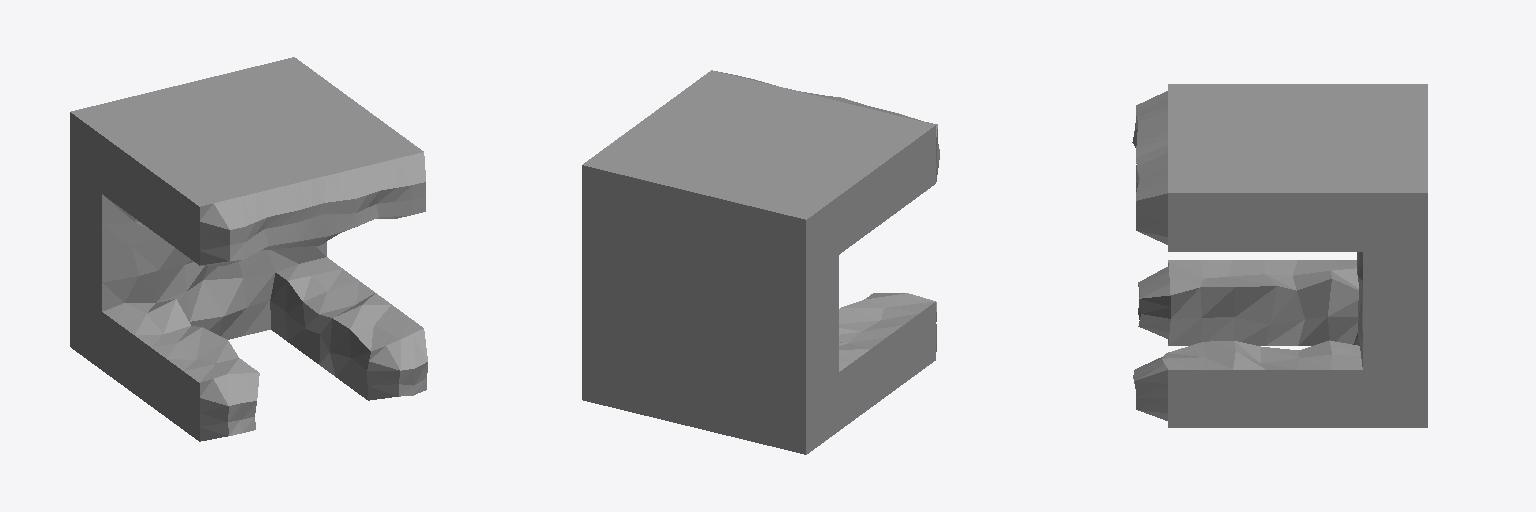
Rendered from tjunction.obj.
The picture shows the model from 3 angles: view 1: azimuth 30°, elevation 25°; view 2: azimuth 150°, elevation 25°; view 3: azimuth 270°, elevation 25°; orthographic projection.
Parts seen in each view (by area): view 1: Cube; view 2: Cube; view 3: Cube.
Boxes of the visible parts, box(x1,y1,x2,y2) form: Cube: box(70, 57, 427, 441); Cube: box(582, 70, 939, 454); Cube: box(1132, 84, 1427, 427).
Size of the model in its own units: 2 by 2 by 2.28.